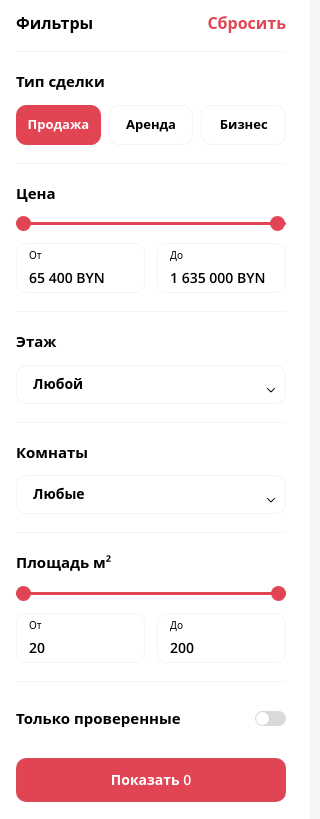
it: SearchSidebarFilters › lets user switch between sale and rent
The width and height of the screenshot is (320, 819).
Expected: the tab with class "search-sidebar__deal-type" reads "Продажа", [16,104,101,144]
Step 1. Click the tab with class "search-sidebar__deal-type" showing "Аренда" → click(151, 124), box [109,104,193,144]
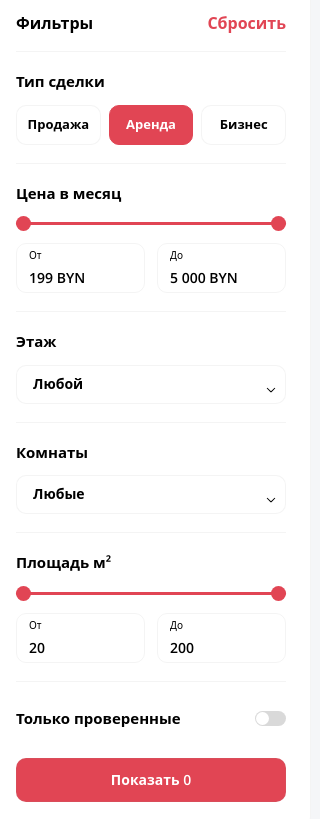
Expected: the heading with class "search-sidebar__label" reads "Тип сделки", [16,71,105,91]
Expected: the text "Цена в месяц" is shown, [16,182,121,202]
